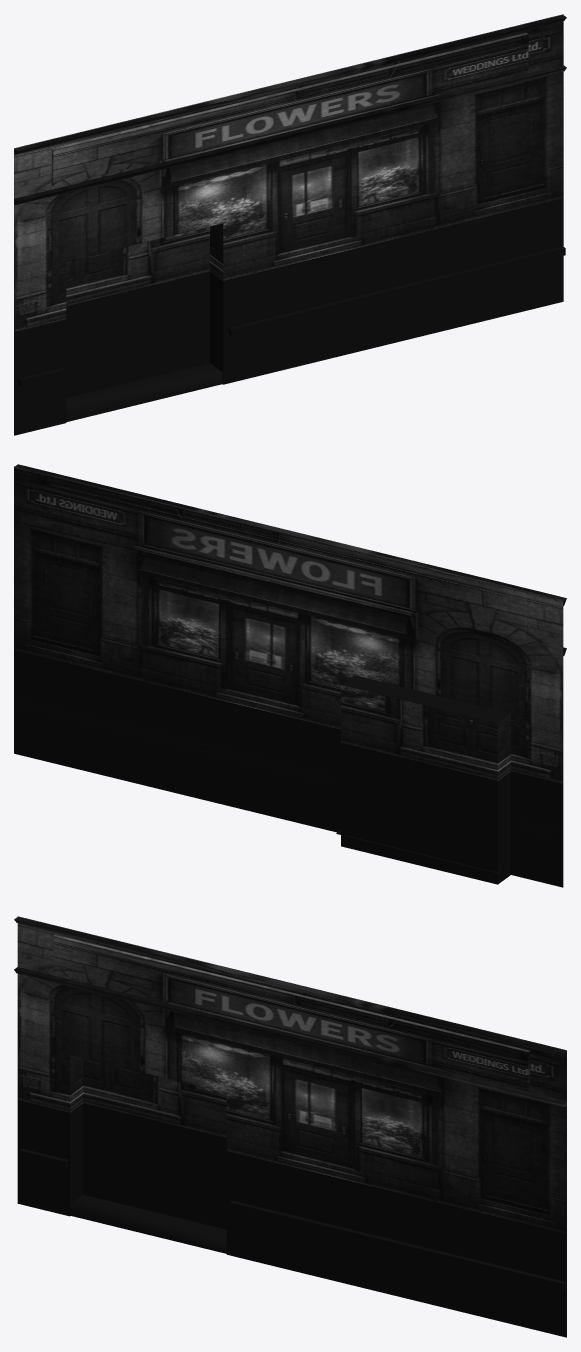
Rendered from shop.obj.
3 renders of one model, top to bottom at view 1: azimuth 30°, elevation 25°; view 2: azimuth 150°, elevation 25°; view 3: azimuth 330°, elevation 25°, orthographic.
Visible parts, largest first — view 1: group; view 2: group; view 3: group.
Part boxes in pixels (box(x1,y1,x2,y2)): group: box(14, 14, 566, 435); group: box(14, 464, 566, 887); group: box(14, 916, 566, 1337).
Size of the model in its own units: 10 by 5 by 0.558.
